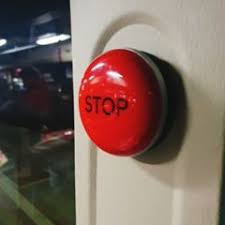bell: (75, 46, 169, 162)
